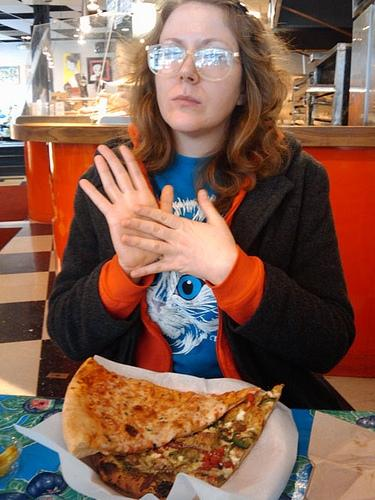bell pepper: (232, 432, 250, 449), (169, 448, 189, 457), (244, 394, 254, 412), (218, 430, 233, 442), (258, 396, 275, 404), (210, 454, 222, 465), (202, 459, 210, 468), (223, 461, 232, 468), (207, 476, 216, 480)
